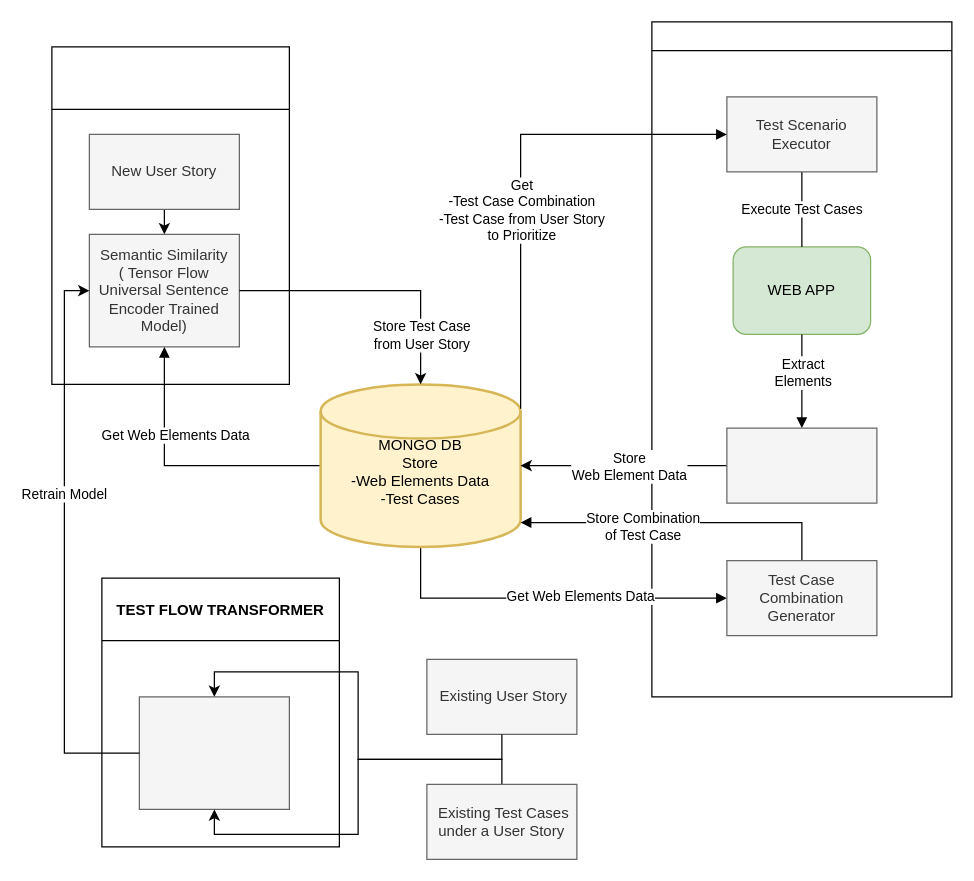
The diagram is 974 pixels wide and 881 high, and some of its shapes have lost their labels. The box of each missing label's shape, as (x1, y1, x2, y2) in pixels:
Puppeteer Cluster 1, 2 ... N: (651, 21, 952, 697)
Test Flow Transformer (Tensor flow User Story and Test Case to Test Flow Model): (138, 696, 289, 809)
USER STORY TO TEST CASE GENERATOR: (51, 46, 289, 384)
Web Element Extractor: (726, 427, 877, 503)
